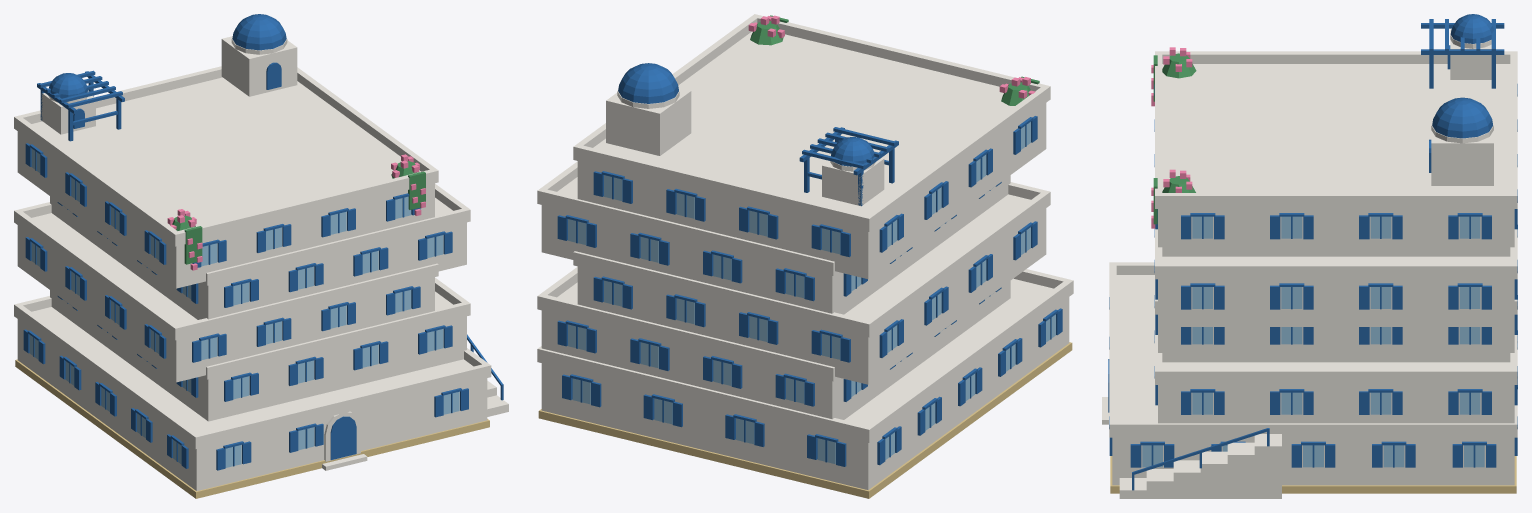
Rendered from house-2x2-5f-aegean-a.glb.
3 renders of one model, left to right at view 1: azimuth 30°, elevation 25°; view 2: azimuth 150°, elevation 25°; view 3: azimuth 270°, elevation 25°, orthographic. The views are drawn at different scales.
Parts seen in each view (by area): view 1: house-2x2-5f-aegean-a; view 2: house-2x2-5f-aegean-a; view 3: house-2x2-5f-aegean-a.
Part boxes in pixels (bbox=[...]): house-2x2-5f-aegean-a: bbox=[14, 14, 508, 498]; house-2x2-5f-aegean-a: bbox=[537, 14, 1073, 498]; house-2x2-5f-aegean-a: bbox=[1102, 14, 1517, 498].
Bounding box in the file's own units: 1.99 × 1.87 × 2.
1 material, 1 textured.
